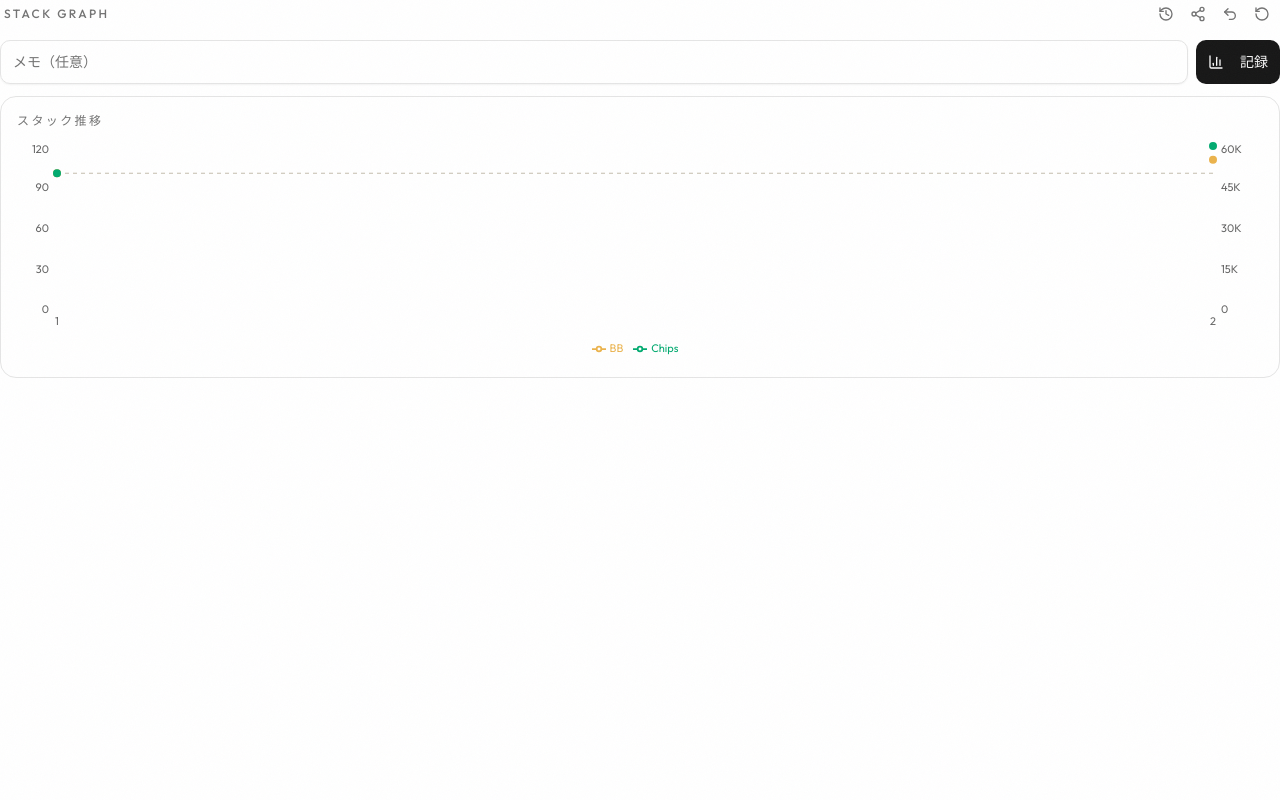
Test: StackRecordSection リセットダイアログ › ダイアログに「保存してリセット」ボタンがある
Click the button named "新しいセッションを開始". click: (1262, 14)
box: [1248,0,1276,28]
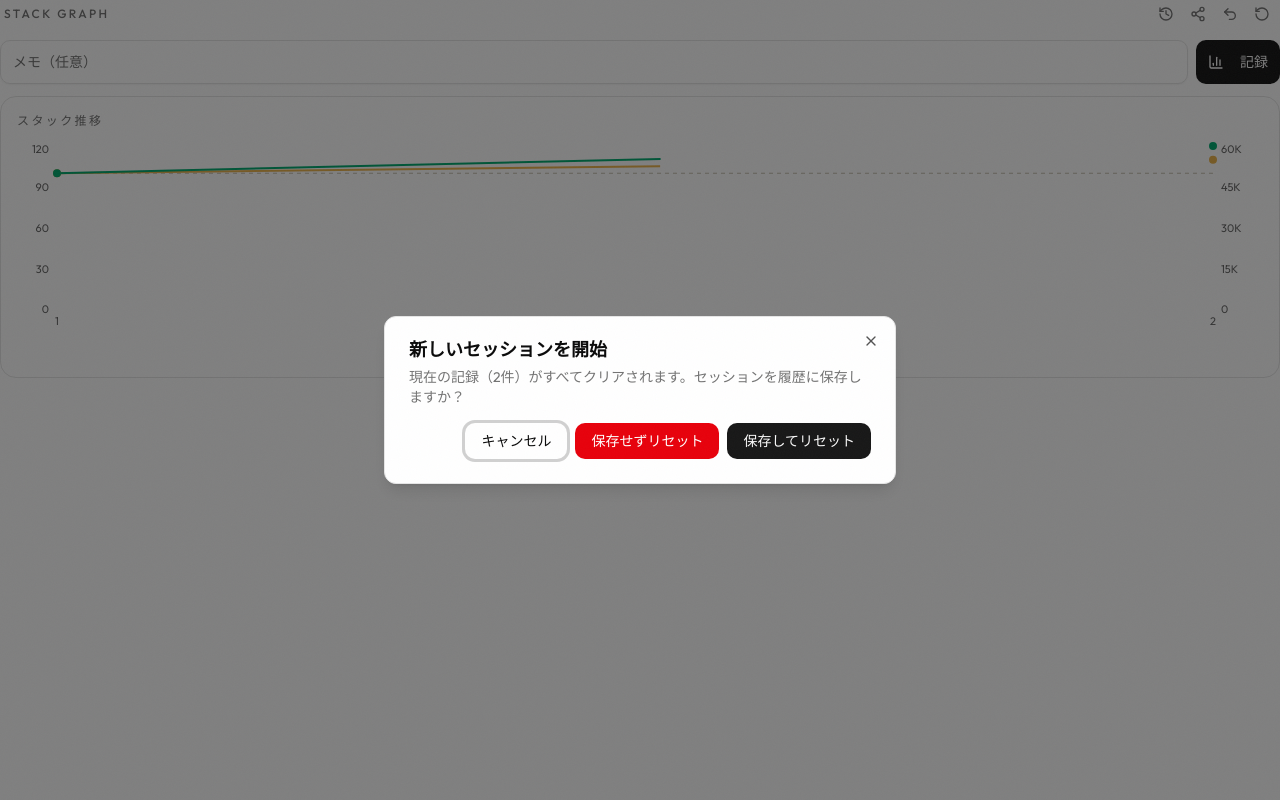
Expected: the button "保存してリセット" is shown, [727,423,871,459]
